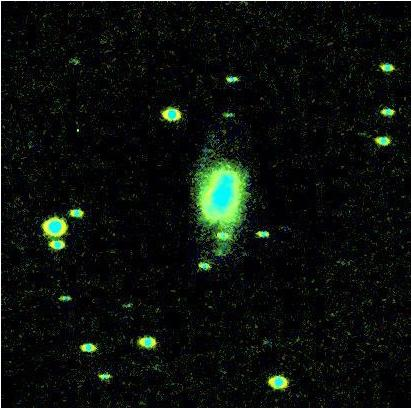star: (204, 238, 234, 268)
